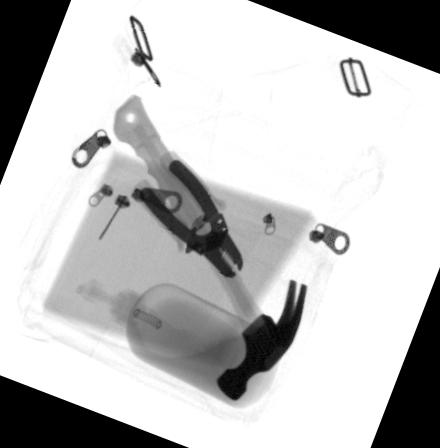Hammer: (113, 92, 307, 401)
Pliers: (130, 148, 243, 278)
